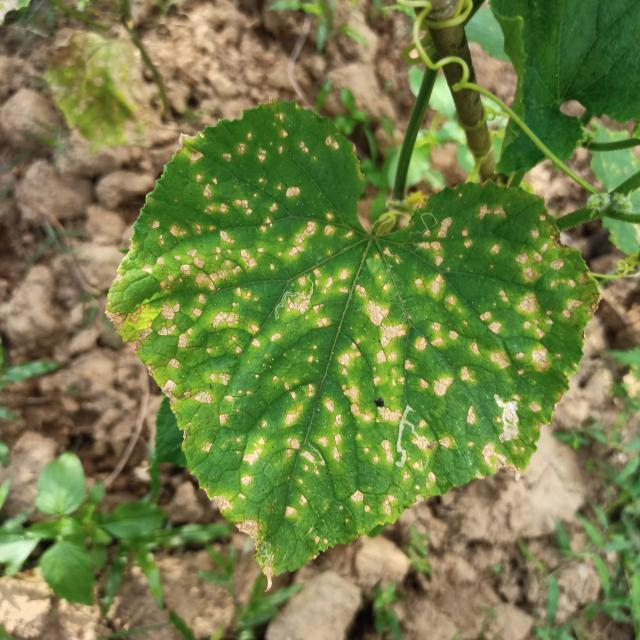disease_cucumber: (119, 138, 565, 535)
